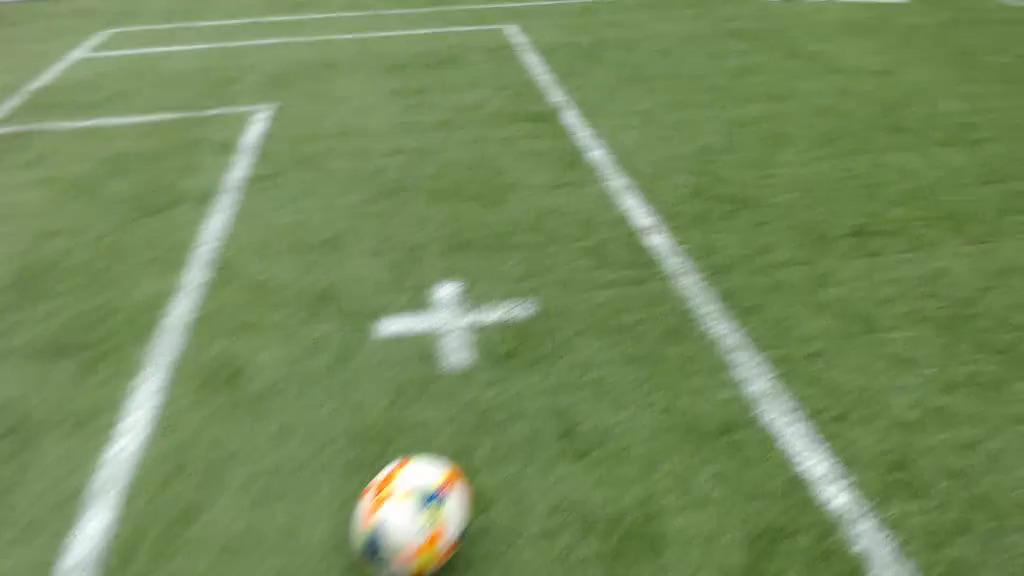ball: (354, 453, 471, 576)
